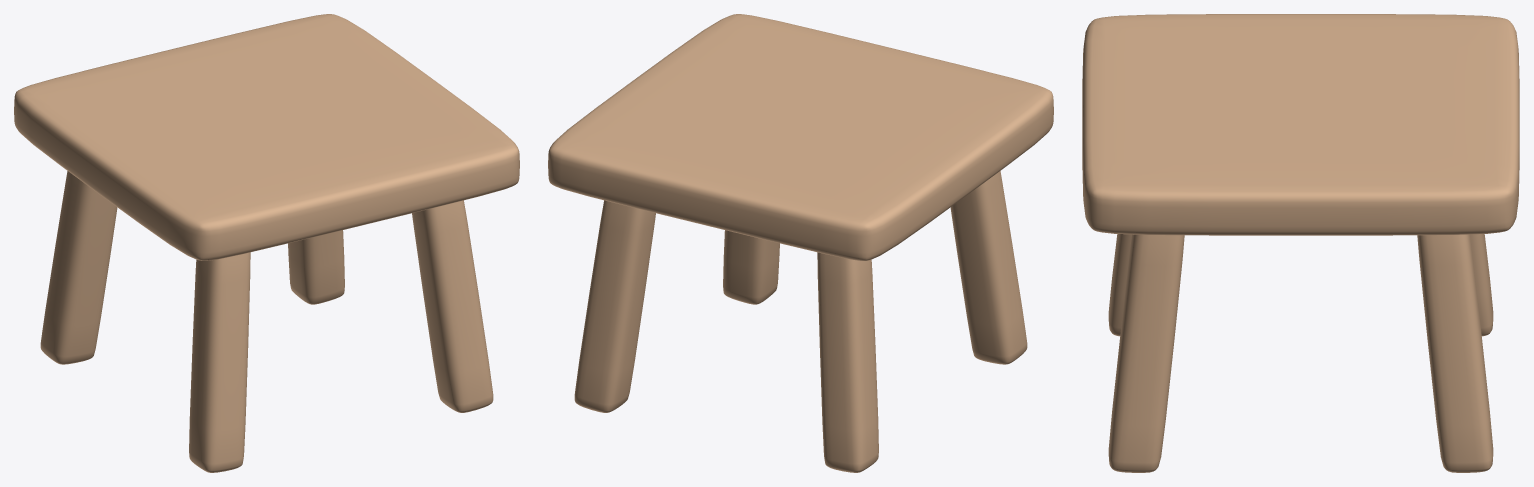
File: table.glb
The picture shows the model from 3 angles, left to right: view 1: azimuth 30°, elevation 25°; view 2: azimuth 150°, elevation 25°; view 3: azimuth 270°, elevation 25°; orthographic projection. The views are drawn at different scales.
Parts seen in each view (by area): view 1: TableTop, TableLeg; view 2: TableTop, TableLeg; view 3: TableTop, TableLeg.
Boxes of the visible parts, box(x1,y1,x2,y2) form: TableTop: box(14, 14, 519, 260); TableLeg: box(40, 171, 493, 472); TableTop: box(548, 14, 1053, 260); TableLeg: box(574, 171, 1027, 472); TableTop: box(1082, 14, 1519, 235); TableLeg: box(1108, 234, 1493, 472).
Size of the model in its own units: 1.2 by 0.9006 by 1.2.
